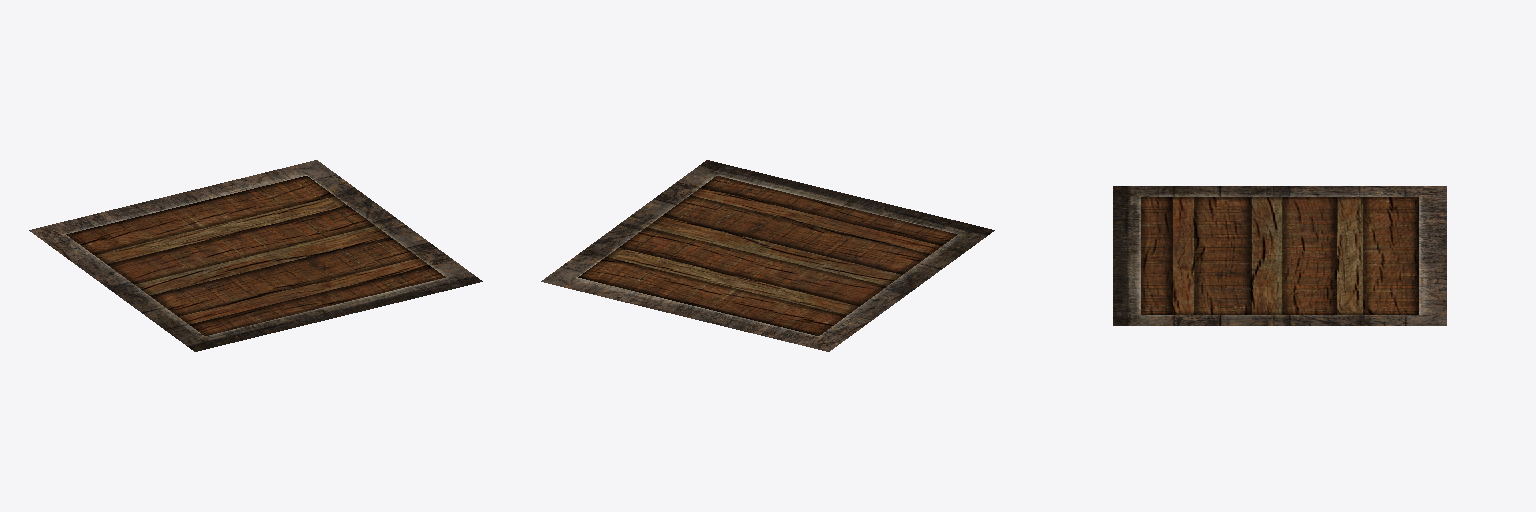
The picture shows the model from 3 angles: view 1: azimuth 30°, elevation 25°; view 2: azimuth 150°, elevation 25°; view 3: azimuth 270°, elevation 25°; orthographic projection.
Parts seen in each view (by area): view 1: LowPoly_Plane.001; view 2: LowPoly_Plane.001; view 3: LowPoly_Plane.001.
Part boxes in pixels (x1,y1,x2,y2): LowPoly_Plane.001: (29,160,482,351); LowPoly_Plane.001: (541,160,994,351); LowPoly_Plane.001: (1113,186,1446,325).
Bounding box in the file's own units: 2 × 0 × 2.
Materials: 1 (1 with a texture image).